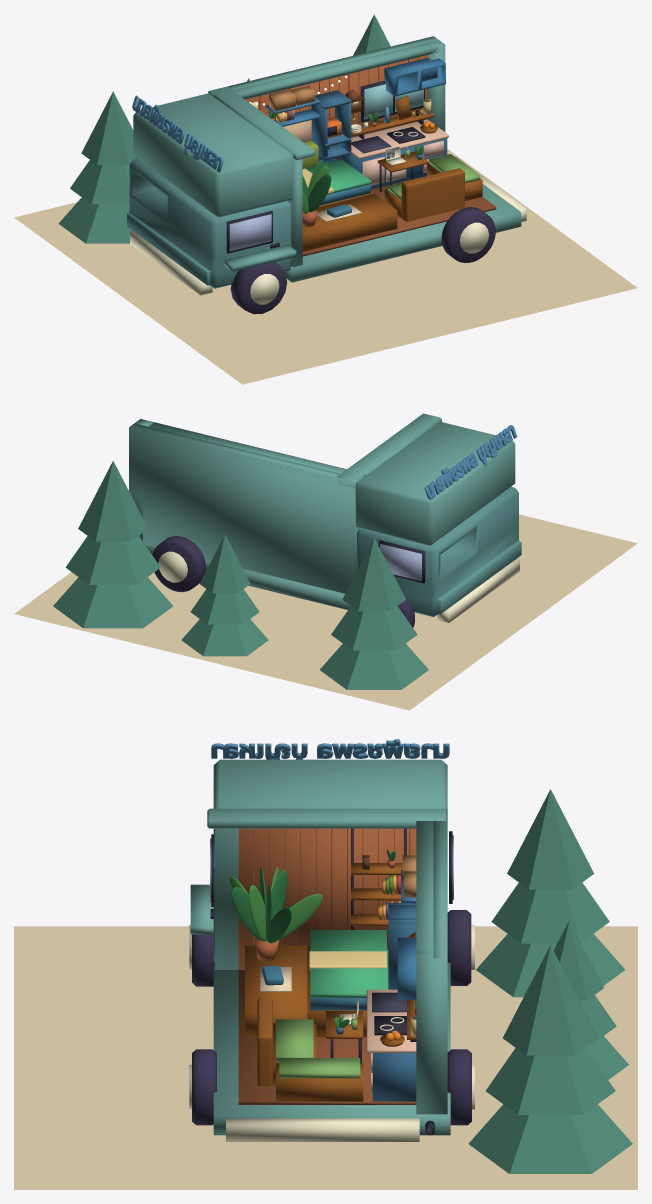
Rendered from Van10_10-Copy.glb.
3 renders of one model, top to bottom at view 1: azimuth 30°, elevation 25°; view 2: azimuth 150°, elevation 25°; view 3: azimuth 270°, elevation 25°, orthographic. The views are drawn at different scales.
Visible parts, largest first — view 1: Luton.198, Ground, Tree.003, Luton.050, Text, Luton.046, Tree.002, Luton.051, Luton.047; view 2: Luton.198, Ground, Tree.002, Tree.003, Tree.006, Luton.052, Text, Luton.053; view 3: Luton.198, Ground, Tree.002, Tree.003, Tree.006, Text, Luton.038, Luton.050, Luton.052, Luton.046.
Part boxes in pixels (x1,y1,x2,y2): Luton.198: (127,36,526,295); Ground: (14,149,637,384); Tree.003: (58,91,136,243); Luton.050: (441,207,495,262); Text: (132,95,223,172); Luton.046: (230,262,287,314); Tree.002: (353,14,390,55); Luton.051: (459,222,488,253); Luton.047: (250,274,279,304); Luton.198: (129,413,521,622); Ground: (14,514,637,710); Tree.002: (53,461,172,628); Tree.003: (320,537,428,689); Tree.006: (181,534,268,656); Luton.052: (152,536,205,592); Text: (424,425,517,499); Luton.053: (158,551,187,582); Luton.198: (190,759,453,1141); Ground: (14,926,637,1189); Tree.002: (468,945,632,1173); Tree.003: (476,789,624,997); Tree.006: (553,920,628,1079); Text: (211,739,449,759); Luton.038: (447,910,471,985); Luton.050: (192,1049,216,1125); Luton.052: (447,1049,471,1125); Luton.046: (192,934,214,986).
Bounding box in the file's own units: 10 × 3.95 × 10.
48 materials, 1 textured.
